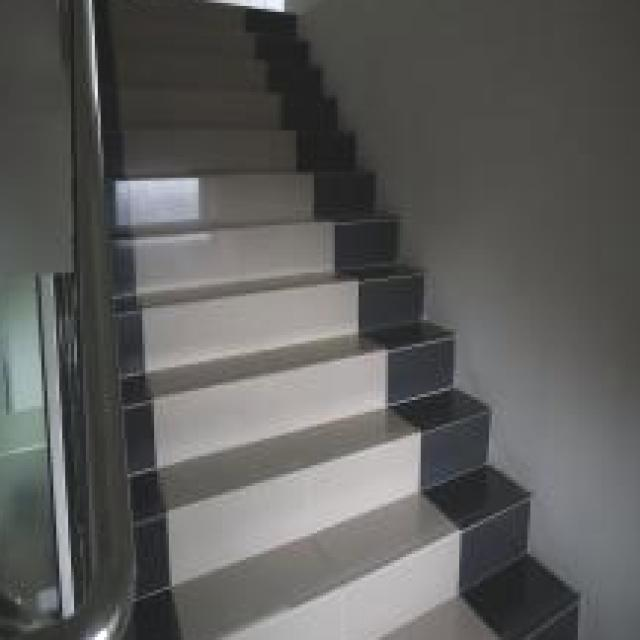upstair: (111, 119, 422, 496)
